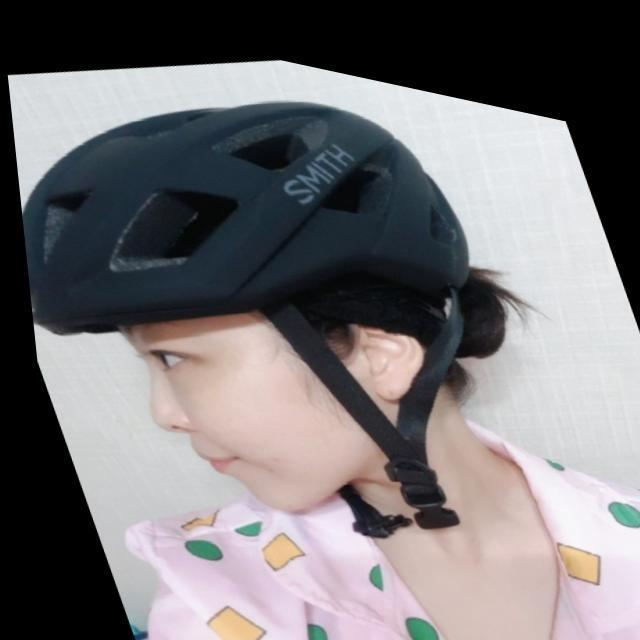Helmet: (22, 95, 541, 515)
